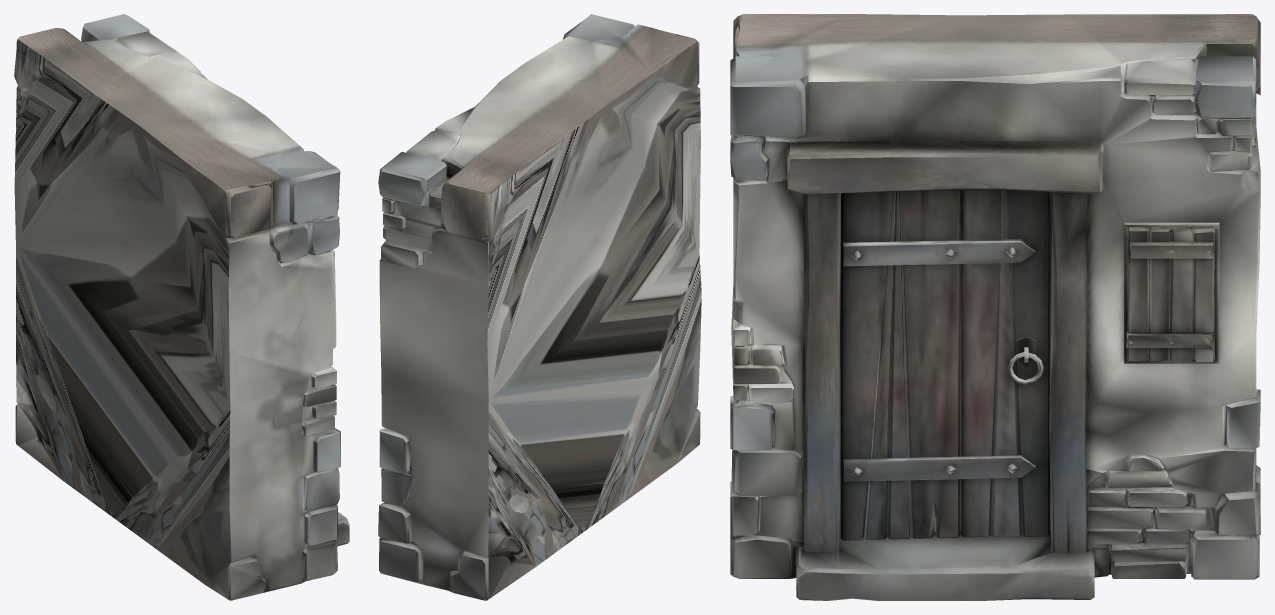
The model's file is obj_wooden_door.glb.
3 views of the same model, side by side, from view 1: azimuth 30°, elevation 25°; view 2: azimuth 150°, elevation 25°; view 3: azimuth 270°, elevation 25° (orthographic). The views are drawn at different scales.
Parts seen in each view (by area): view 1: model; view 2: model; view 3: model.
Boxes of the visible parts, left/top/right/bottom form: model: left=14, top=14, right=349, bottom=600; model: left=378, top=14, right=701, bottom=600; model: left=730, top=14, right=1260, bottom=600.
Bounding box in the file's own units: 0.3777 × 1 × 0.9569.
Materials: 1 (1 with a texture image).
